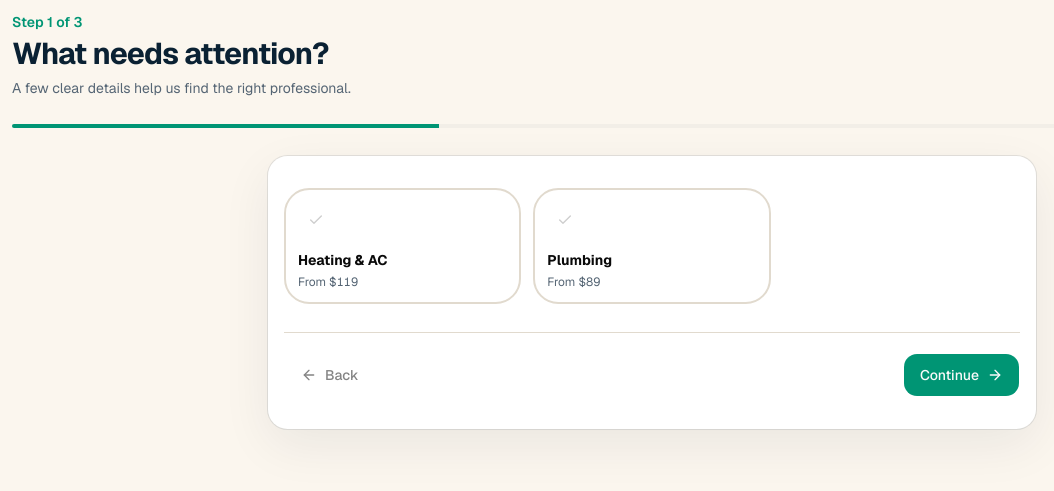
Test: request form › requires a service before the description step
This screenshot has width=1054, height=491.
Expected: the heading "What needs attention?" is shown, x1=12 y1=36 x2=351 y2=72
Click the button "Continue".
click(961, 375)  # box x1=903 y1=353 x2=1020 y2=397
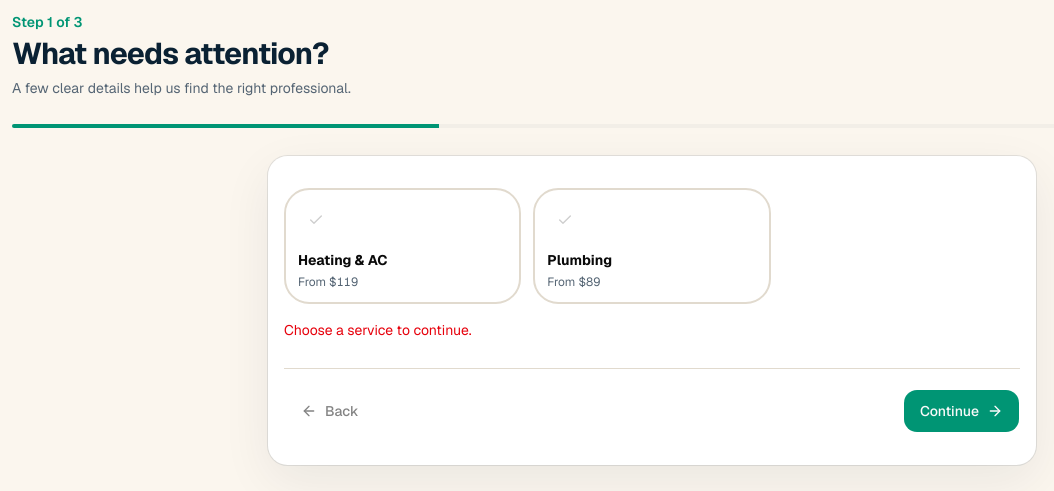
Expected: the message reads "Choose a service to continue.", x1=284 y1=321 x2=472 y2=339
